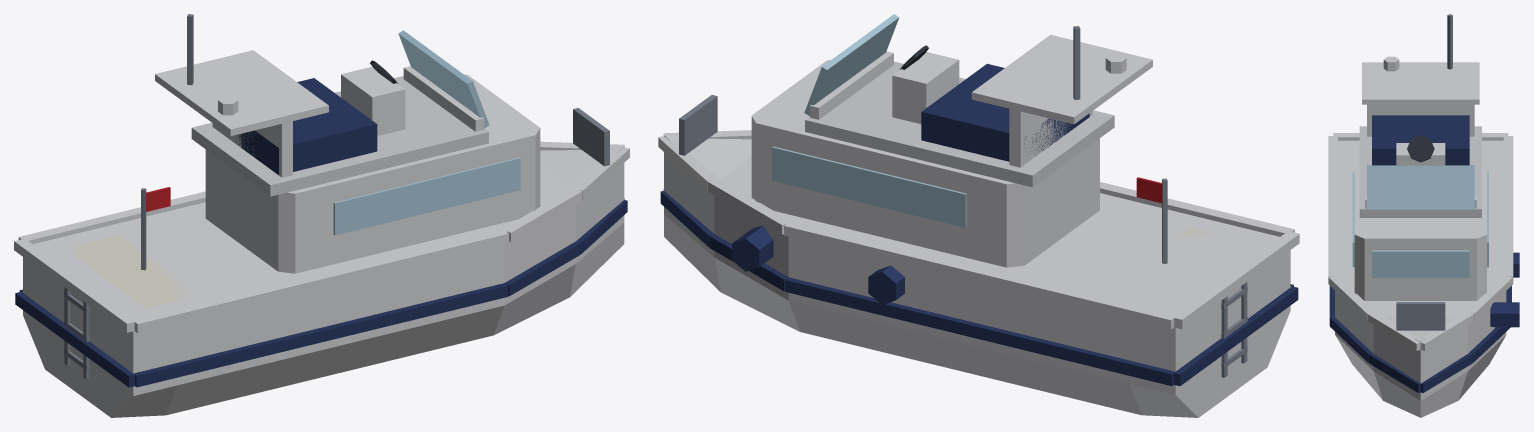
The model's file is yacht_small.glb.
3 renders of one model, left to right at view 1: azimuth 30°, elevation 25°; view 2: azimuth 150°, elevation 25°; view 3: azimuth 270°, elevation 25°, orthographic. The views are drawn at different scales.
Parts seen in each view (by area): view 1: yacht_small; view 2: yacht_small; view 3: yacht_small.
Part boxes in pixels (bbox=[...]): yacht_small: bbox=[14, 14, 629, 417]; yacht_small: bbox=[658, 14, 1299, 417]; yacht_small: bbox=[1328, 14, 1519, 417].
Bounding box in the file's own units: 5.1 × 2.91 × 1.95.
